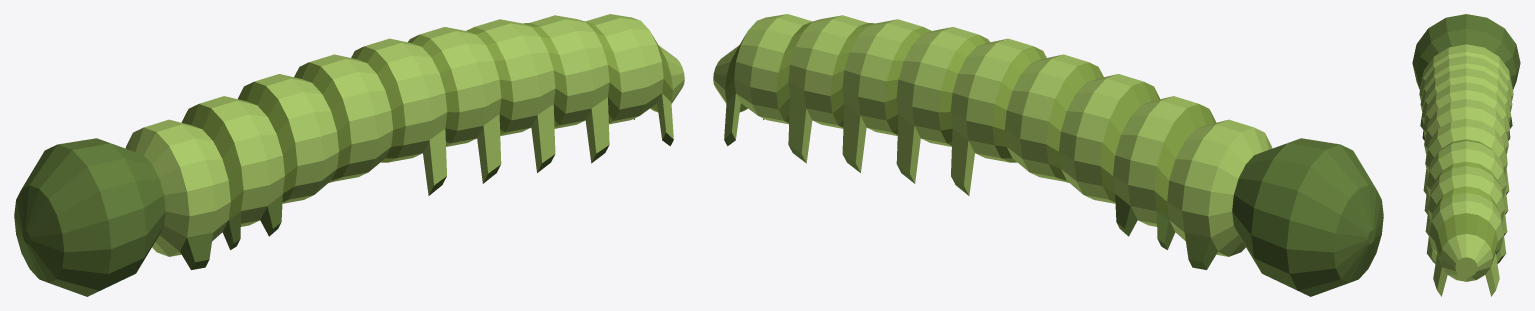
File: NEW_RECOVERY_032_LOD0.fbx
The picture shows the model from 3 angles, left to right: view 1: azimuth 30°, elevation 25°; view 2: azimuth 150°, elevation 25°; view 3: azimuth 270°, elevation 25°; orthographic projection. The views are drawn at different scales.
Visible parts, largest first — view 1: Caterpillar; view 2: Caterpillar; view 3: Caterpillar.
Boxes of the visible parts, x1,y1,x2,y2 form: Caterpillar: (14,14,684,296); Caterpillar: (713,14,1383,296); Caterpillar: (1412,14,1520,296).
Bounding box in the file's own units: 255 × 53 × 63.06.
